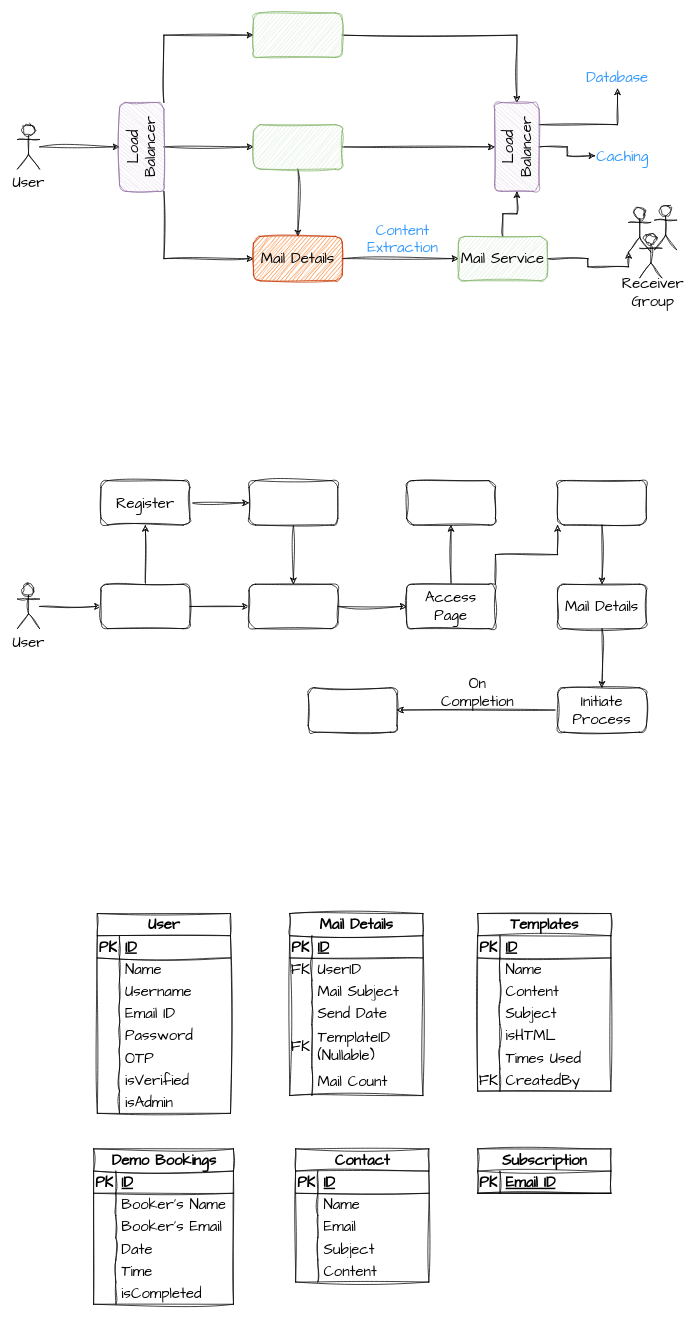
Image size: 697x1317. Some labels were removed from this diagram. The centre of each missing label's shape, as x and y in pixels:
"Have an account?" goes at pixel 145 606.
"Inform User" goes at pixel 352 709.
"Login" goes at pixel 293 606.
"Template Service" goes at pixel 297 146.
"User Service" goes at pixel 297 34.
"Verify" goes at pixel 293 502.
"View Stats" goes at pixel 450 502.
"View Templates" goes at pixel 601 502.
